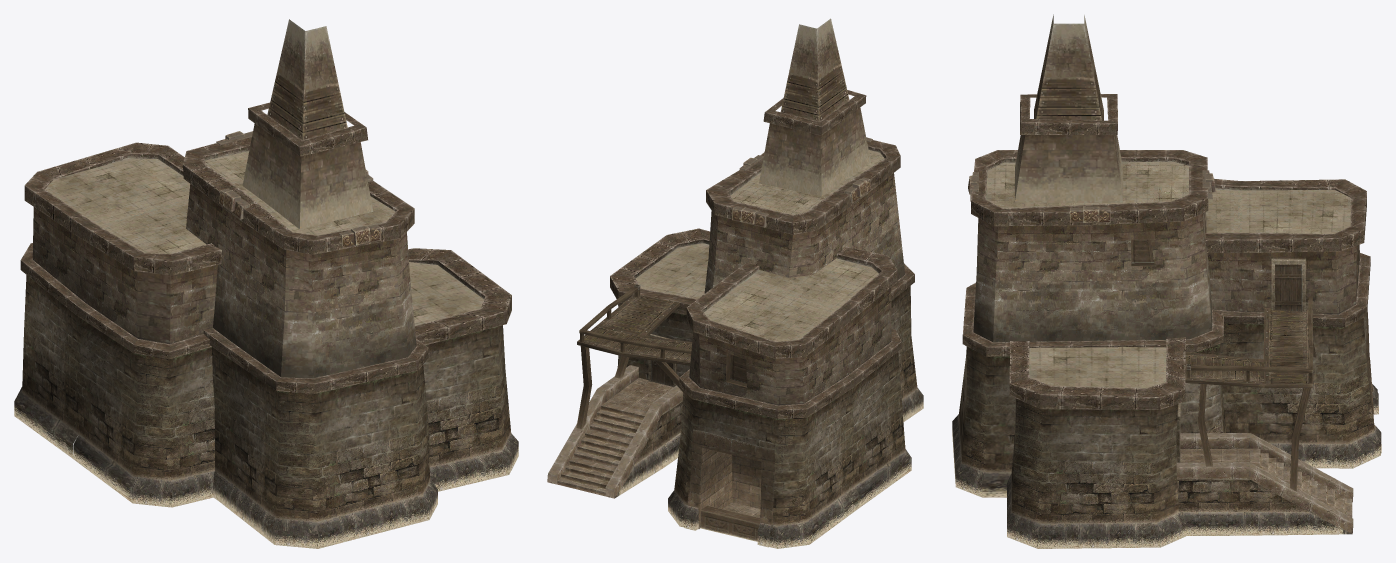
File: OZ_09_sn_T04bldg04A.glb
3 views of the same model, side by side, from view 1: azimuth 30°, elevation 25°; view 2: azimuth 150°, elevation 25°; view 3: azimuth 270°, elevation 25° (orthographic). The views are drawn at different scales.
Visible parts, largest first — view 1: OM_09_sn_T04bldg04A; view 2: OM_09_sn_T04bldg04A; view 3: OM_09_sn_T04bldg04A.
Part boxes in pixels (x1,y1,x2,y2): OM_09_sn_T04bldg04A: (14,19,518,548); OM_09_sn_T04bldg04A: (547,18,923,548); OM_09_sn_T04bldg04A: (952,14,1381,548).
Bounding box in the file's own units: 16.51 × 21.89 × 19.3.
9 materials, 9 textured.
